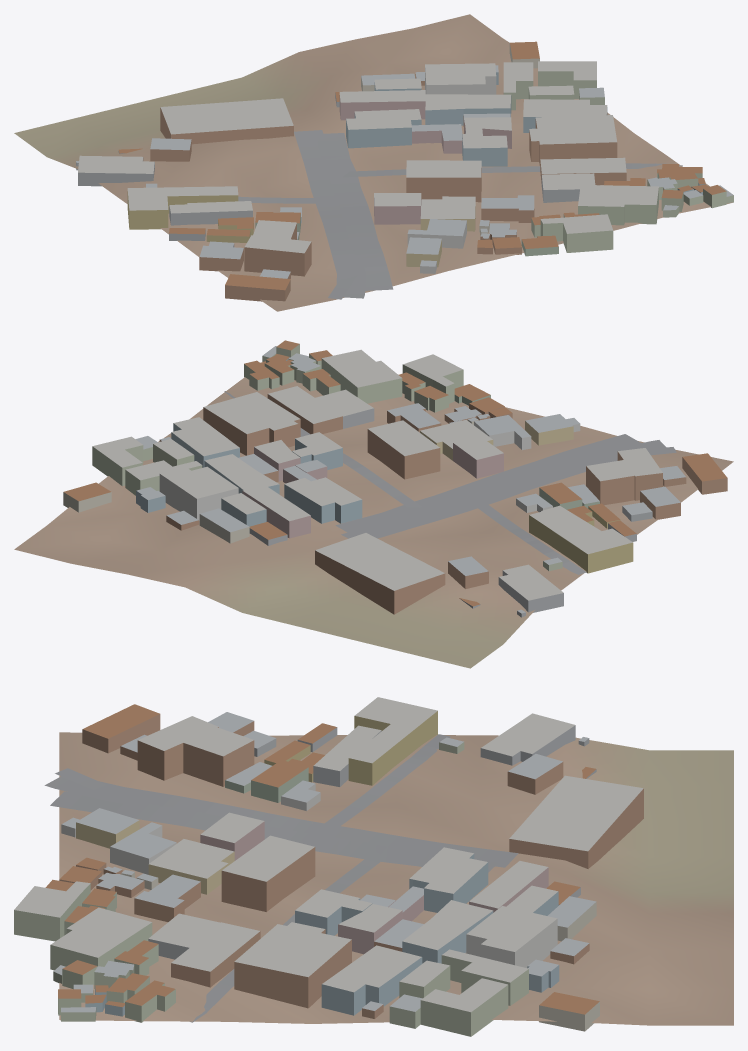
3 views of the same model, one above another, from view 1: azimuth 30°, elevation 25°; view 2: azimuth 150°, elevation 25°; view 3: azimuth 270°, elevation 25° (orthographic). The views are drawn at different scales.
Visible parts, largest first — view 1: Lo; view 2: Lo; view 3: Lo.
Boxes of the visible parts, x1=… form: Lo: x1=14, y1=14, x2=733, y2=311; Lo: x1=14, y1=340, x2=733, y2=668; Lo: x1=14, y1=697, x2=733, y2=1036.
Size of the model in its own units: 283 by 19.83 by 273.
